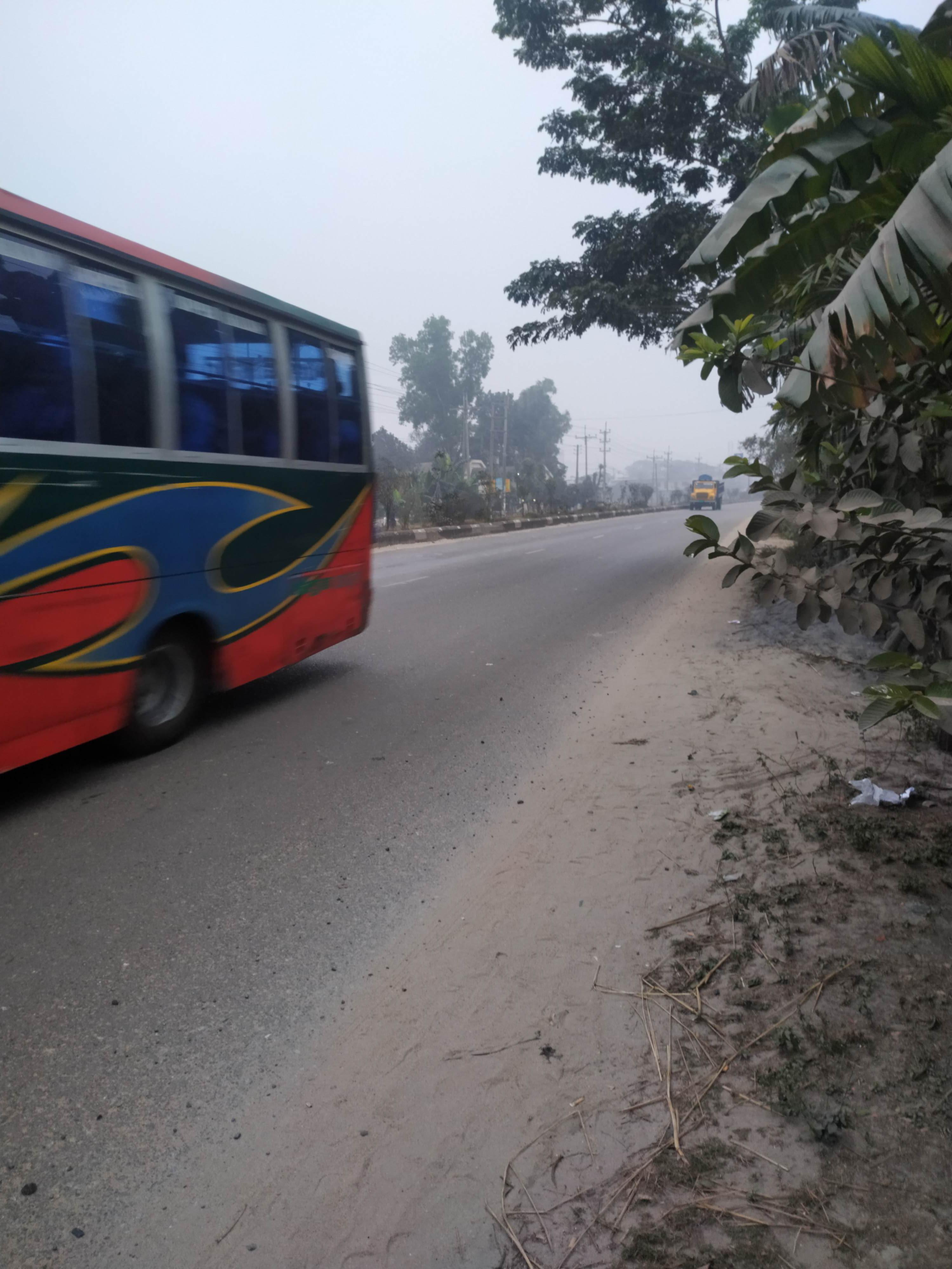Bus: (0, 182, 397, 768)
Truck: (681, 469, 735, 521)
